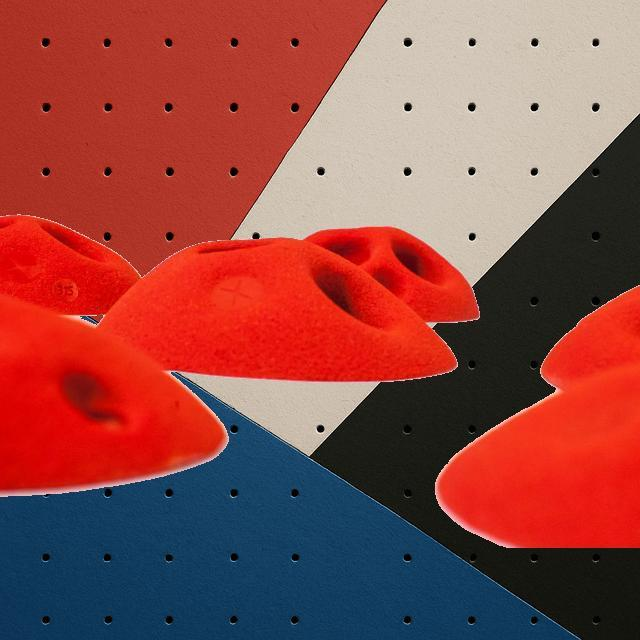Pocket: (94, 237, 460, 383), (2, 290, 224, 492), (436, 358, 640, 548), (304, 228, 480, 322), (0, 216, 142, 314)
